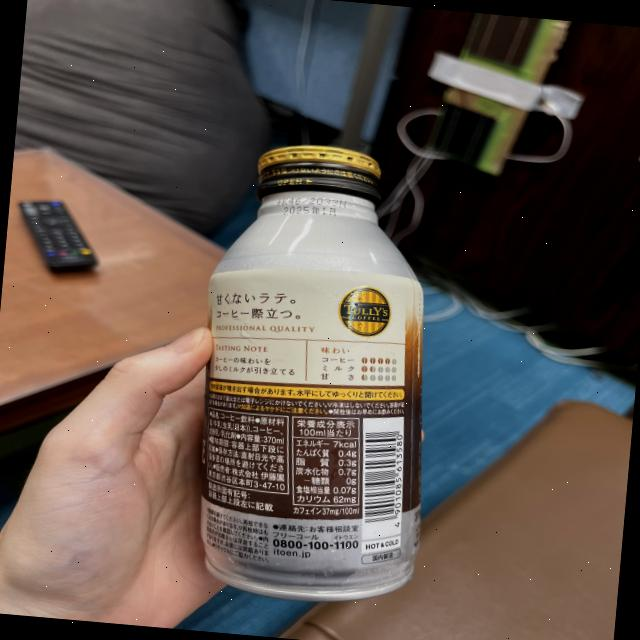coffee-latte: (182, 136, 452, 610)
